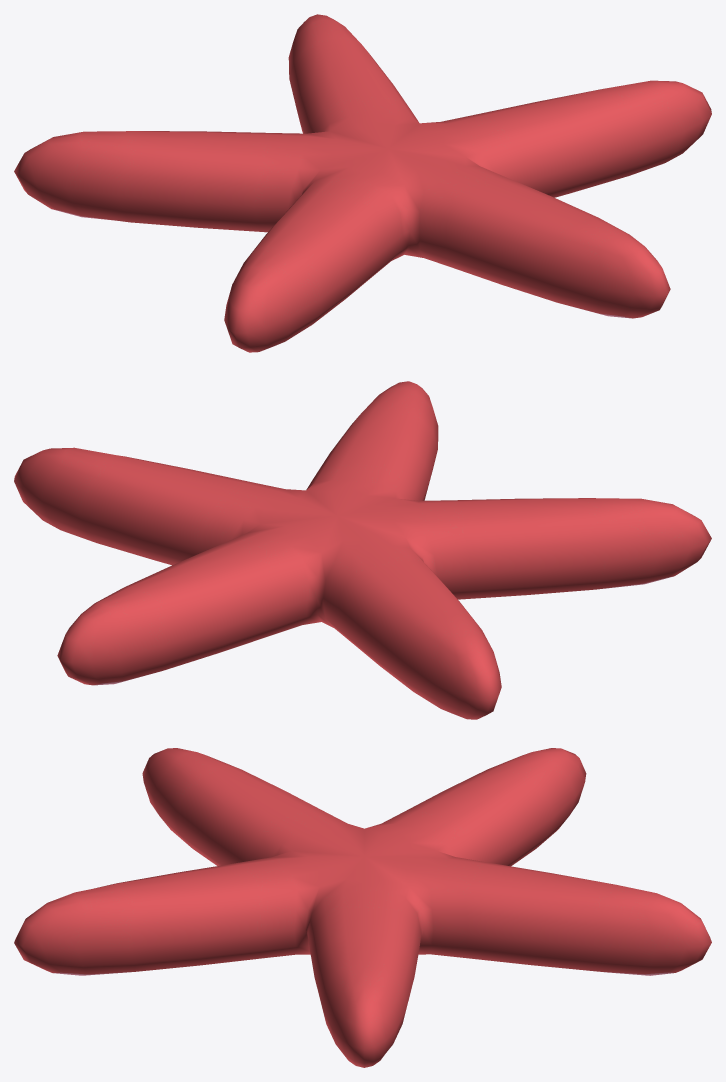
File: Starfish_02.glb
3 views of the same model, one above another, from view 1: azimuth 30°, elevation 25°; view 2: azimuth 150°, elevation 25°; view 3: azimuth 270°, elevation 25° (orthographic). The views are drawn at different scales.
Visible parts, largest first — view 1: Starfish_02_LOD0; view 2: Starfish_02_LOD0; view 3: Starfish_02_LOD0.
Part boxes in pixels (box(x1,y1,x2,y2)): Starfish_02_LOD0: box(14, 14, 711, 352); Starfish_02_LOD0: box(14, 381, 711, 719); Starfish_02_LOD0: box(14, 748, 711, 1067).
Bounding box in the file's own units: 5.01 × 0.64 × 5.25.
Materials: 1 (1 with a texture image).
